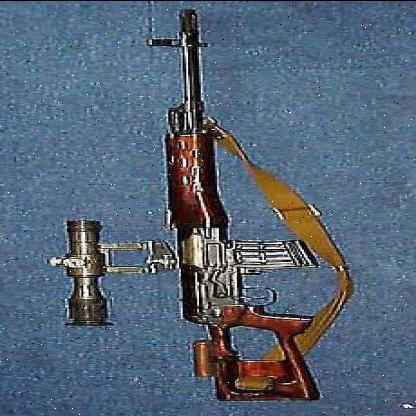rifle: (55, 8, 357, 413)
